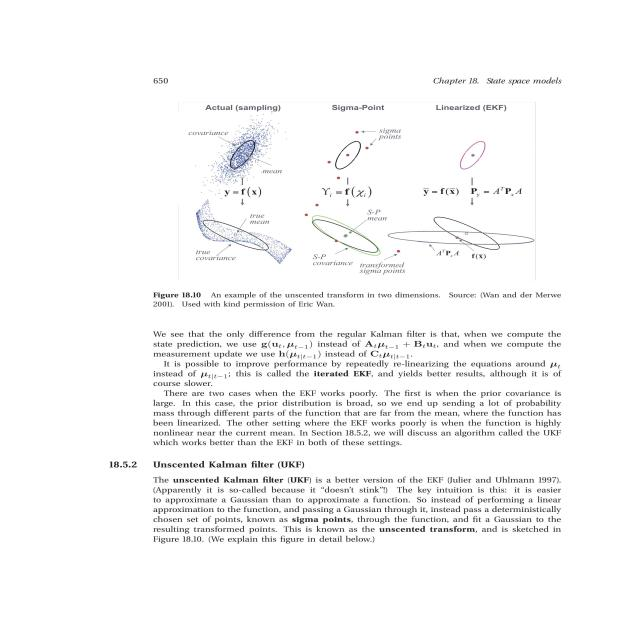diagram: (79, 85, 566, 314)
